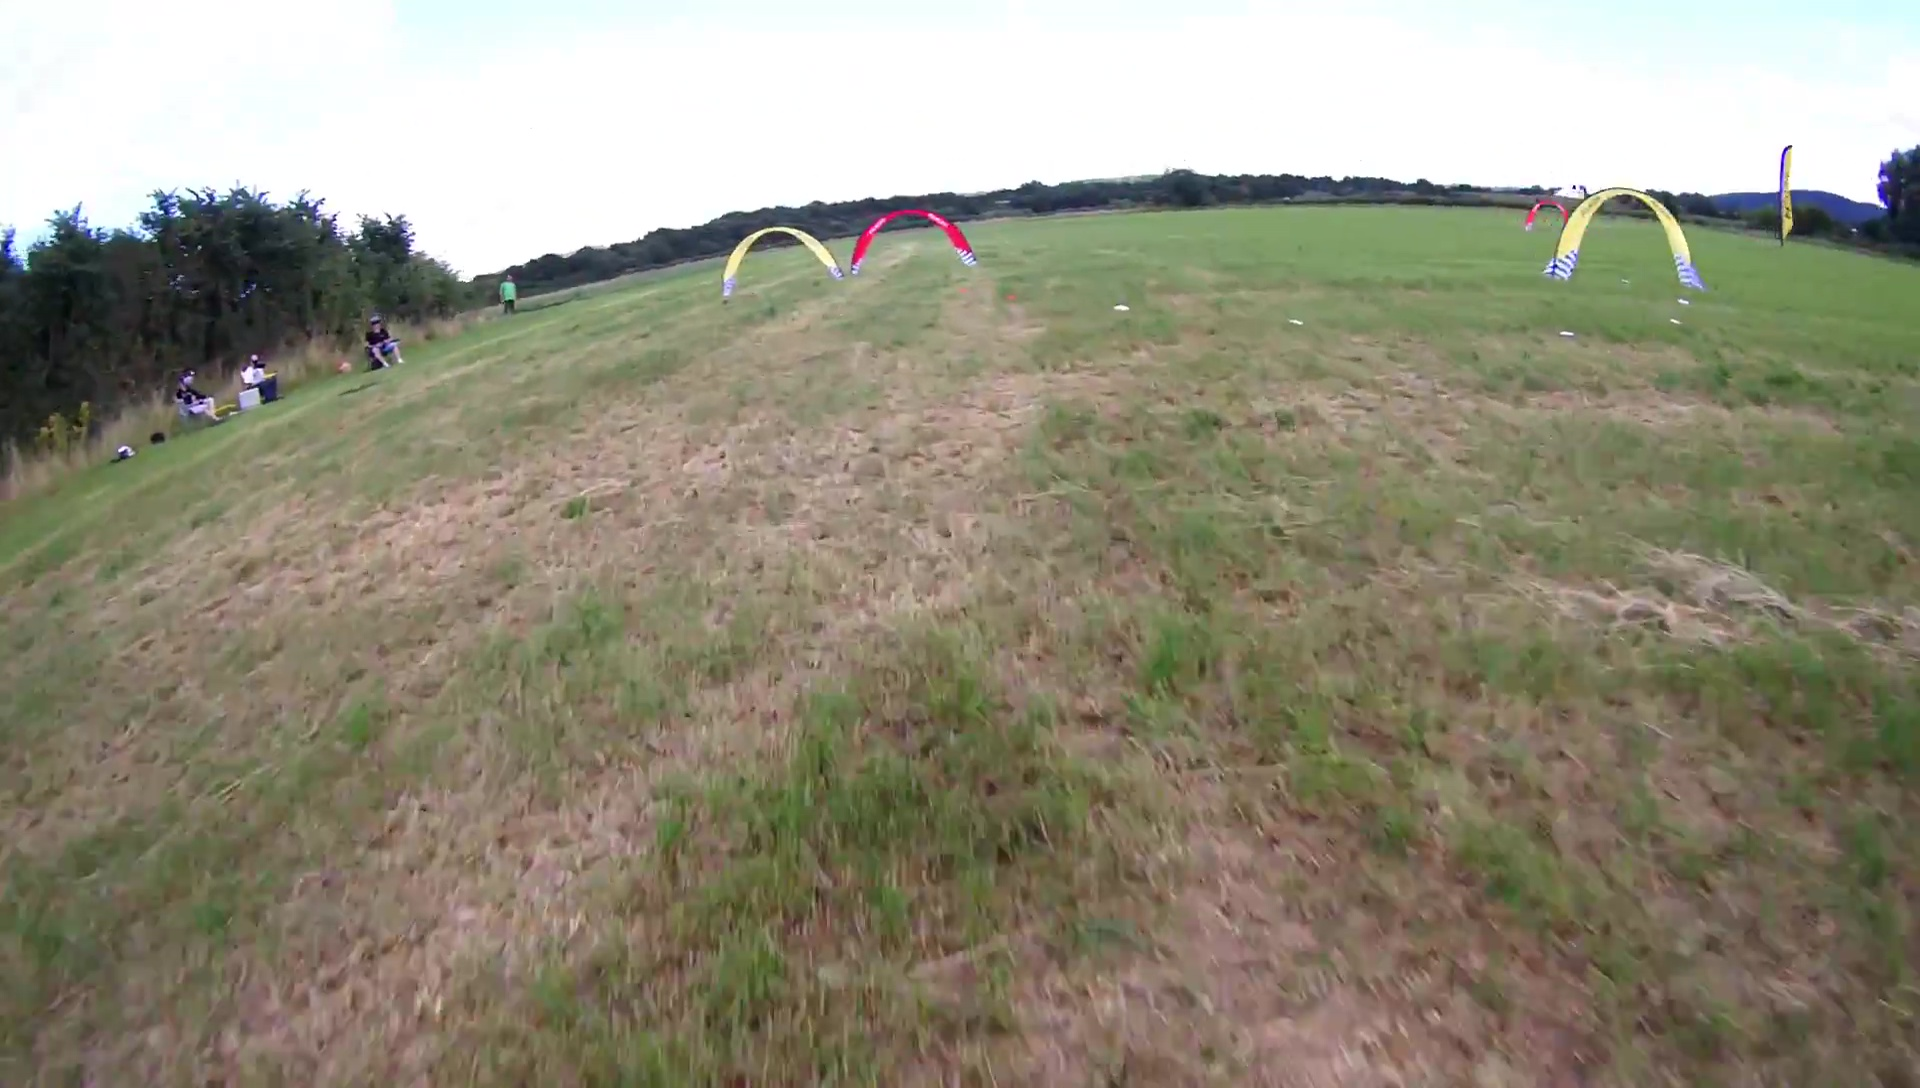gate: (1542, 186, 1705, 294), (719, 226, 844, 299), (848, 208, 982, 277), (1524, 198, 1573, 233)
